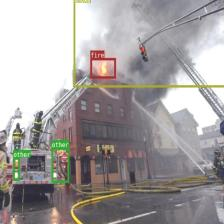fire: (90, 57, 115, 78)
smoke: (73, 0, 224, 86)
